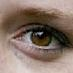eye: (31, 29, 52, 47)
